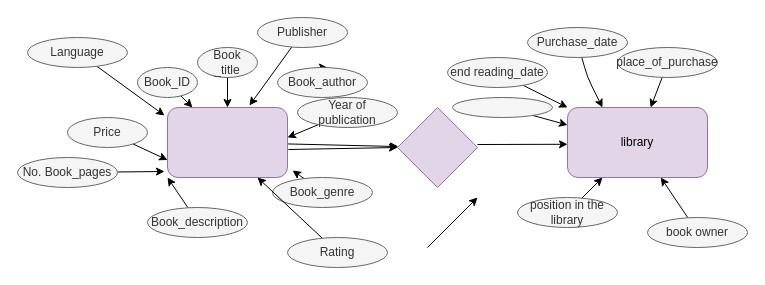
Image size: 765x285. Some labels were removed from this diagram. The box of each missing label's shape, as (x1, y1, x2, y2) in pixels:
are in: (396, 106, 478, 188)
books: (166, 106, 288, 178)
start reading_date: (452, 96, 552, 118)
